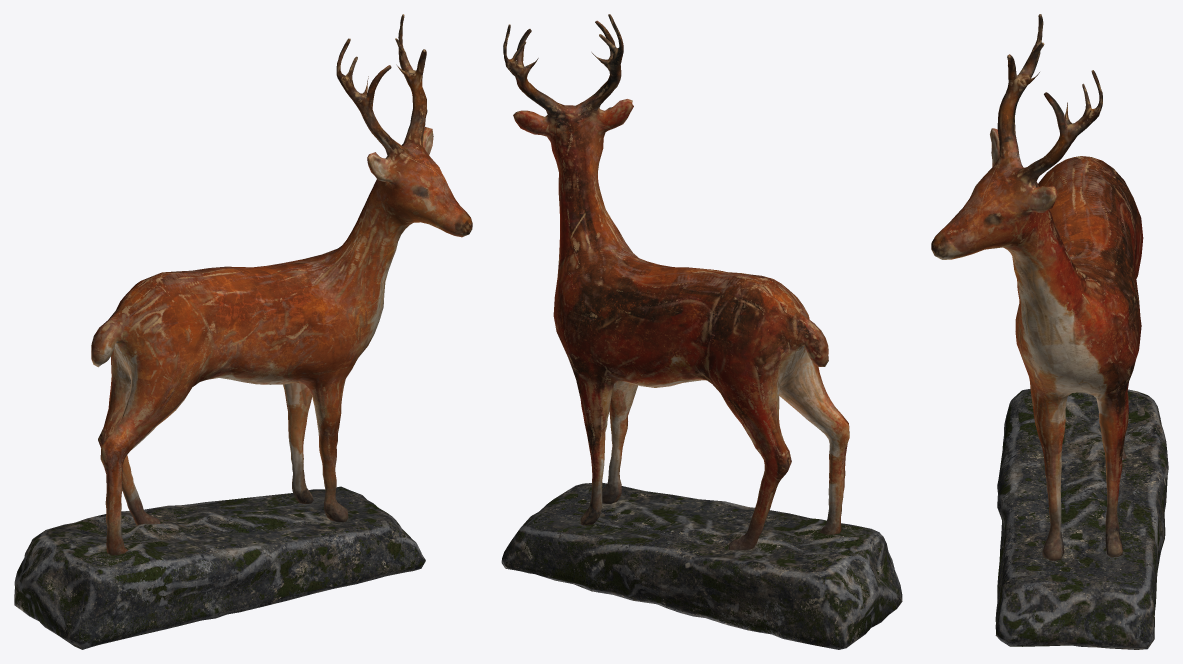
The model's file is Prop_DeerStatue.fbx.
3 renders of one model, left to right at view 1: azimuth 30°, elevation 25°; view 2: azimuth 150°, elevation 25°; view 3: azimuth 270°, elevation 25°, orthographic. The views are drawn at different scales.
Visible parts, largest first — view 1: Prop_DeerStatue; view 2: Prop_DeerStatue; view 3: Prop_DeerStatue.
Part boxes in pixels (x1,y1,x2,y2): Prop_DeerStatue: [14, 14, 472, 649]; Prop_DeerStatue: [501, 14, 902, 649]; Prop_DeerStatue: [931, 14, 1168, 649].
Size of the model in its own units: 71.22 by 94.99 by 33.86.
